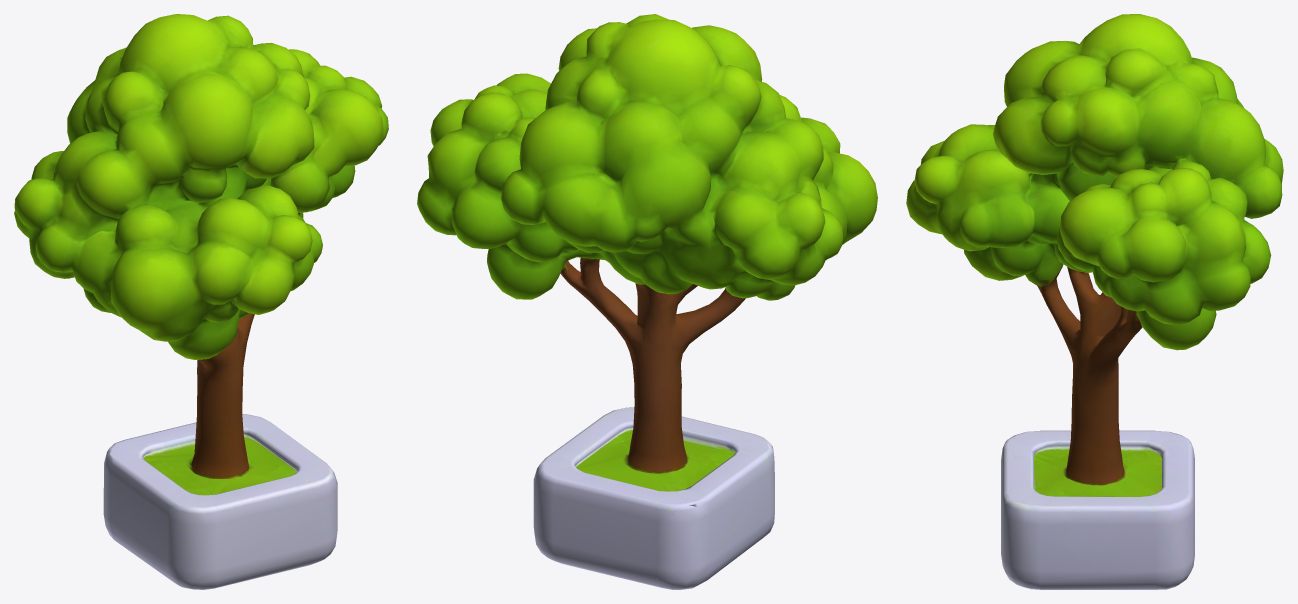
The model's file is tree.glb.
The picture shows the model from 3 angles, left to right: view 1: azimuth 30°, elevation 25°; view 2: azimuth 150°, elevation 25°; view 3: azimuth 270°, elevation 25°; orthographic projection. The views are drawn at different scales.
Bounding box in the file's own units: 0.6978 × 0.9517 × 0.6196.
Materials: 1 (1 with a texture image).
